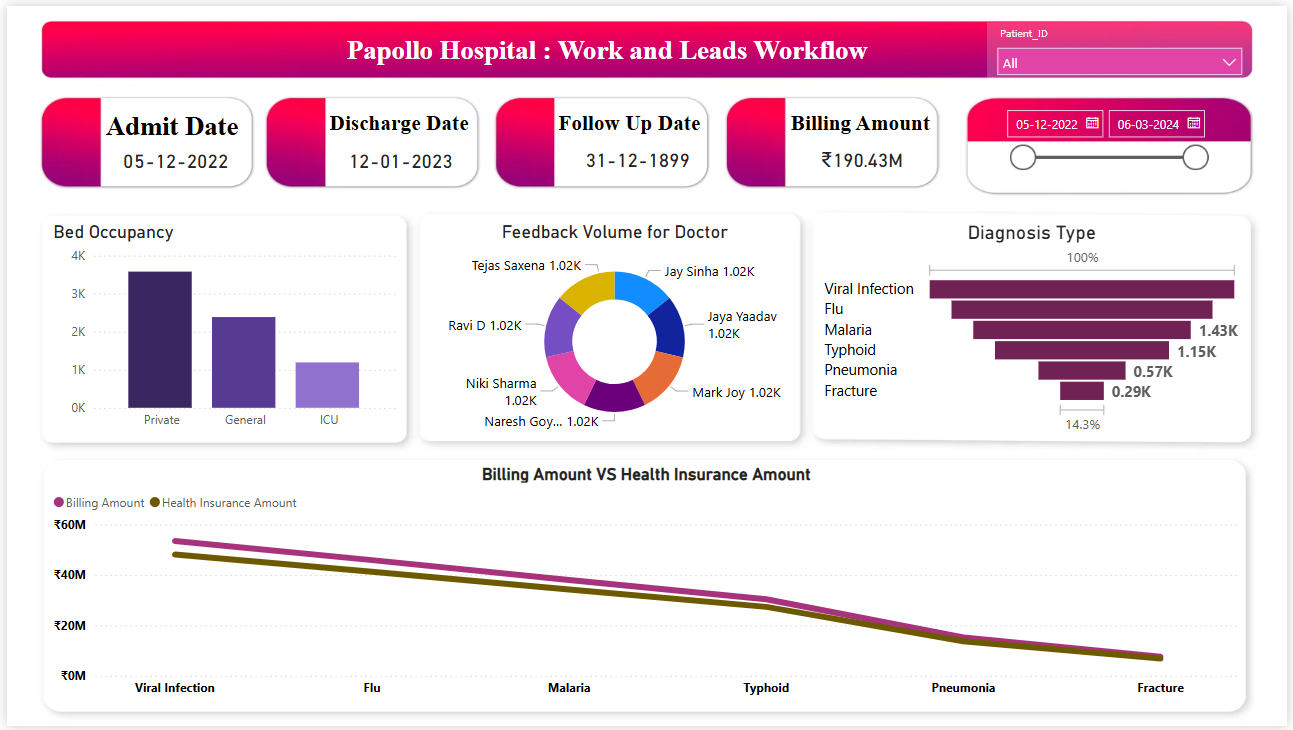

What the dashboard file says about the page in this screenshot:
{"tool":"powerbi","page":{"name":"Page 1","canvas":[1280,720],"ordinal":0},"visuals":[{"type":"textbox","box":[335.4,24.1,551.3,41],"z":0},{"type":"slicer","fields":{"Values":["Sheet1.Patient_ID"]},"box":[979.8,16.5,264.8,56.3],"z":1000},{"type":"card","fields":{"Values":["Sheet1.Admit_Date"]},"box":[102.9,135.7,132.9,38.6],"z":2000},{"type":"textbox","box":[94.3,100,162.9,45.7],"z":3000},{"type":"textbox","box":[317.1,100,164.3,35.7],"z":4000},{"type":"card","fields":{"Values":["Sheet1.Discharge_Date"]},"box":[327.1,135.7,132.9,38.6],"z":5000},{"type":"card","fields":{"Values":["Sheet1.Followup Date"]},"box":[568.2,135.5,124.5,39.1],"z":6000},{"type":"textbox","box":[546.4,100,175.5,35.5],"z":7000},{"type":"textbox","box":[778.9,100,173.3,35.6],"z":8000},{"type":"card","fields":{"Values":["Sheet1.Billing Amount"]},"box":[786.7,134.4,137.8,38.9],"z":9000},{"type":"slicer","fields":{"Values":["Sheet1.Admit_Date"]},"box":[987.8,93.3,222.2,81.1],"z":10000},{"type":"columnChart","title":"Bed Occupancy","fields":{"Category":["Sheet1.Bed_Occupancy"],"Y":["Sheet1.Bed_Occupancy"]},"box":[41,215,353,217],"z":11000},{"type":"donutChart","title":"Feedback Volume for Doctor ","fields":{"Category":["Sheet1.Doctor"],"Y":["Sheet1.Doctor"]},"box":[419,215,378,217],"z":12000},{"type":"funnel","title":"Diagnosis Type","fields":{"Category":["Sheet1.Diagnosis"],"Y":["Sheet1.Diagnosis"]},"box":[812,215,425,217],"z":13000},{"type":"lineChart","title":"Billing Amount VS Health Insurance Amount","fields":{"Y":["Sheet1.Billing Amount","Sheet1.Health Insurance Amount"],"Category":["Sheet1.Diagnosis"]},"box":[41.2,457.5,1196.2,242.5],"z":14000}]}

Visuals, with their boxes in screenshot pixels (x1, y1, x2, y2), scaled from the page's 1280x720 canvas onto the 1293x730 screenshot:
textbox: bbox=(339, 24, 896, 66)
slicer - Sheet1.Patient_ID: bbox=(990, 17, 1257, 74)
card - Sheet1.Admit_Date: bbox=(104, 138, 238, 177)
textbox: bbox=(95, 101, 260, 148)
textbox: bbox=(320, 101, 486, 138)
card - Sheet1.Discharge_Date: bbox=(330, 138, 465, 177)
card - Sheet1.Followup Date: bbox=(574, 137, 700, 177)
textbox: bbox=(552, 101, 729, 137)
textbox: bbox=(787, 101, 962, 137)
card - Sheet1.Billing Amount: bbox=(795, 136, 934, 176)
slicer - Sheet1.Admit_Date: bbox=(998, 95, 1222, 177)
"Bed Occupancy" columnChart: bbox=(41, 218, 398, 438)
"Feedback Volume for Doctor " donutChart: bbox=(423, 218, 805, 438)
"Diagnosis Type" funnel: bbox=(820, 218, 1250, 438)
"Billing Amount VS Health Insurance Amount" lineChart: bbox=(42, 464, 1250, 710)
